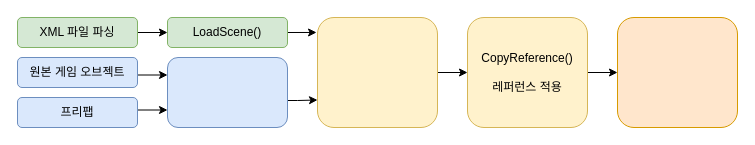
Image size: 755x145. Some labels were removed from this diagram. Here are the shapes that lost their labels. From the top down, the centre of each, then its label:
the point at 227,92: CloneFactory ::Clone()
the point at 377,72: CloningObjects() 게임 오브젝트, 컴포넌트 생성
the point at 677,72: 복제된 오브젝트
